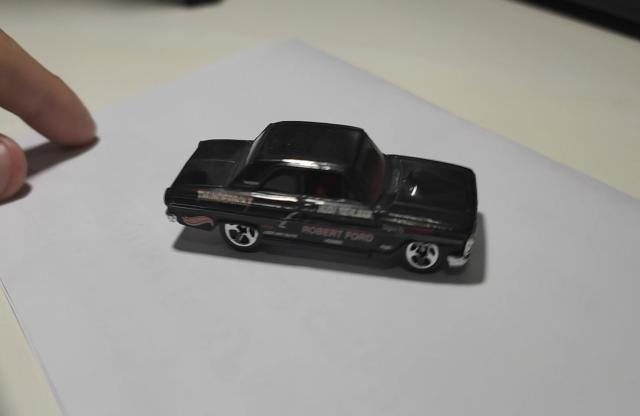01_FORD: (163, 122, 480, 276)
